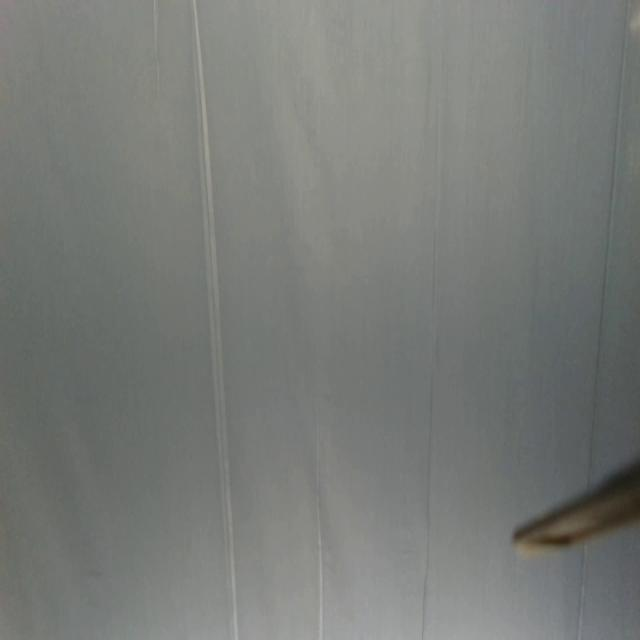crease: (191, 1, 240, 640), (587, 0, 632, 461), (418, 219, 442, 639), (311, 422, 327, 636), (576, 545, 590, 640), (149, 0, 161, 98)
